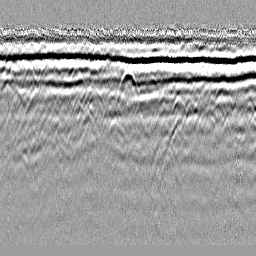cavity: (115, 67, 140, 103)
